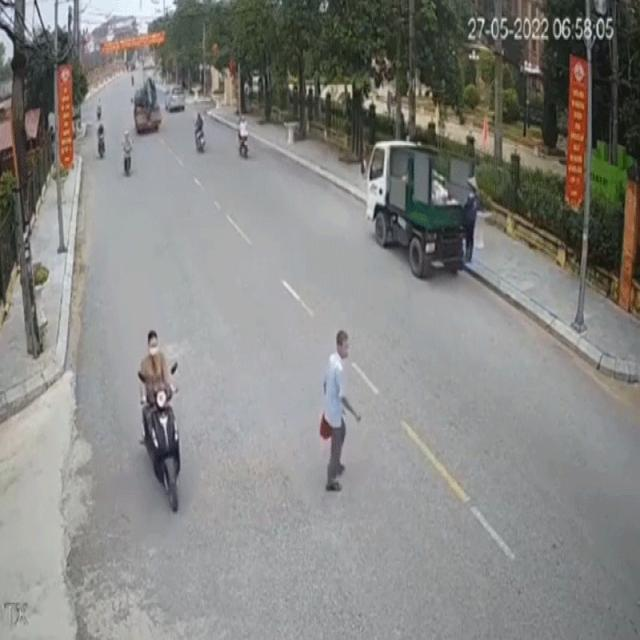normal: (357, 129, 496, 289), (117, 311, 199, 521), (180, 106, 257, 161), (116, 130, 141, 186)
